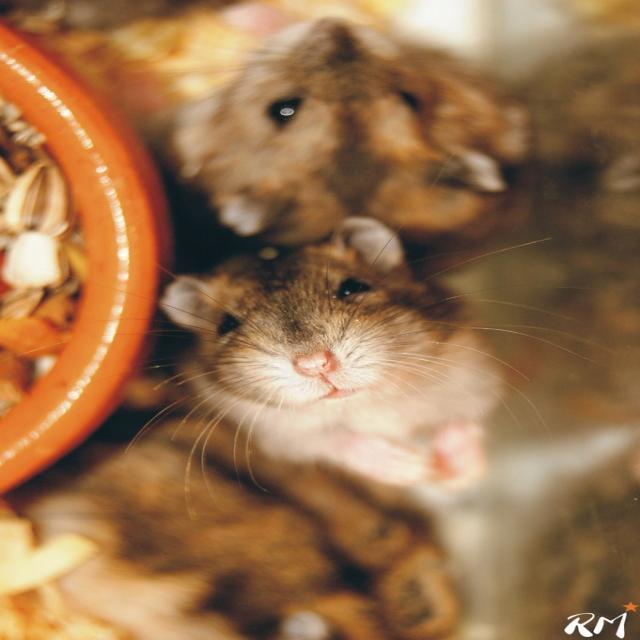rat: (156, 212, 507, 492), (179, 11, 530, 232)
